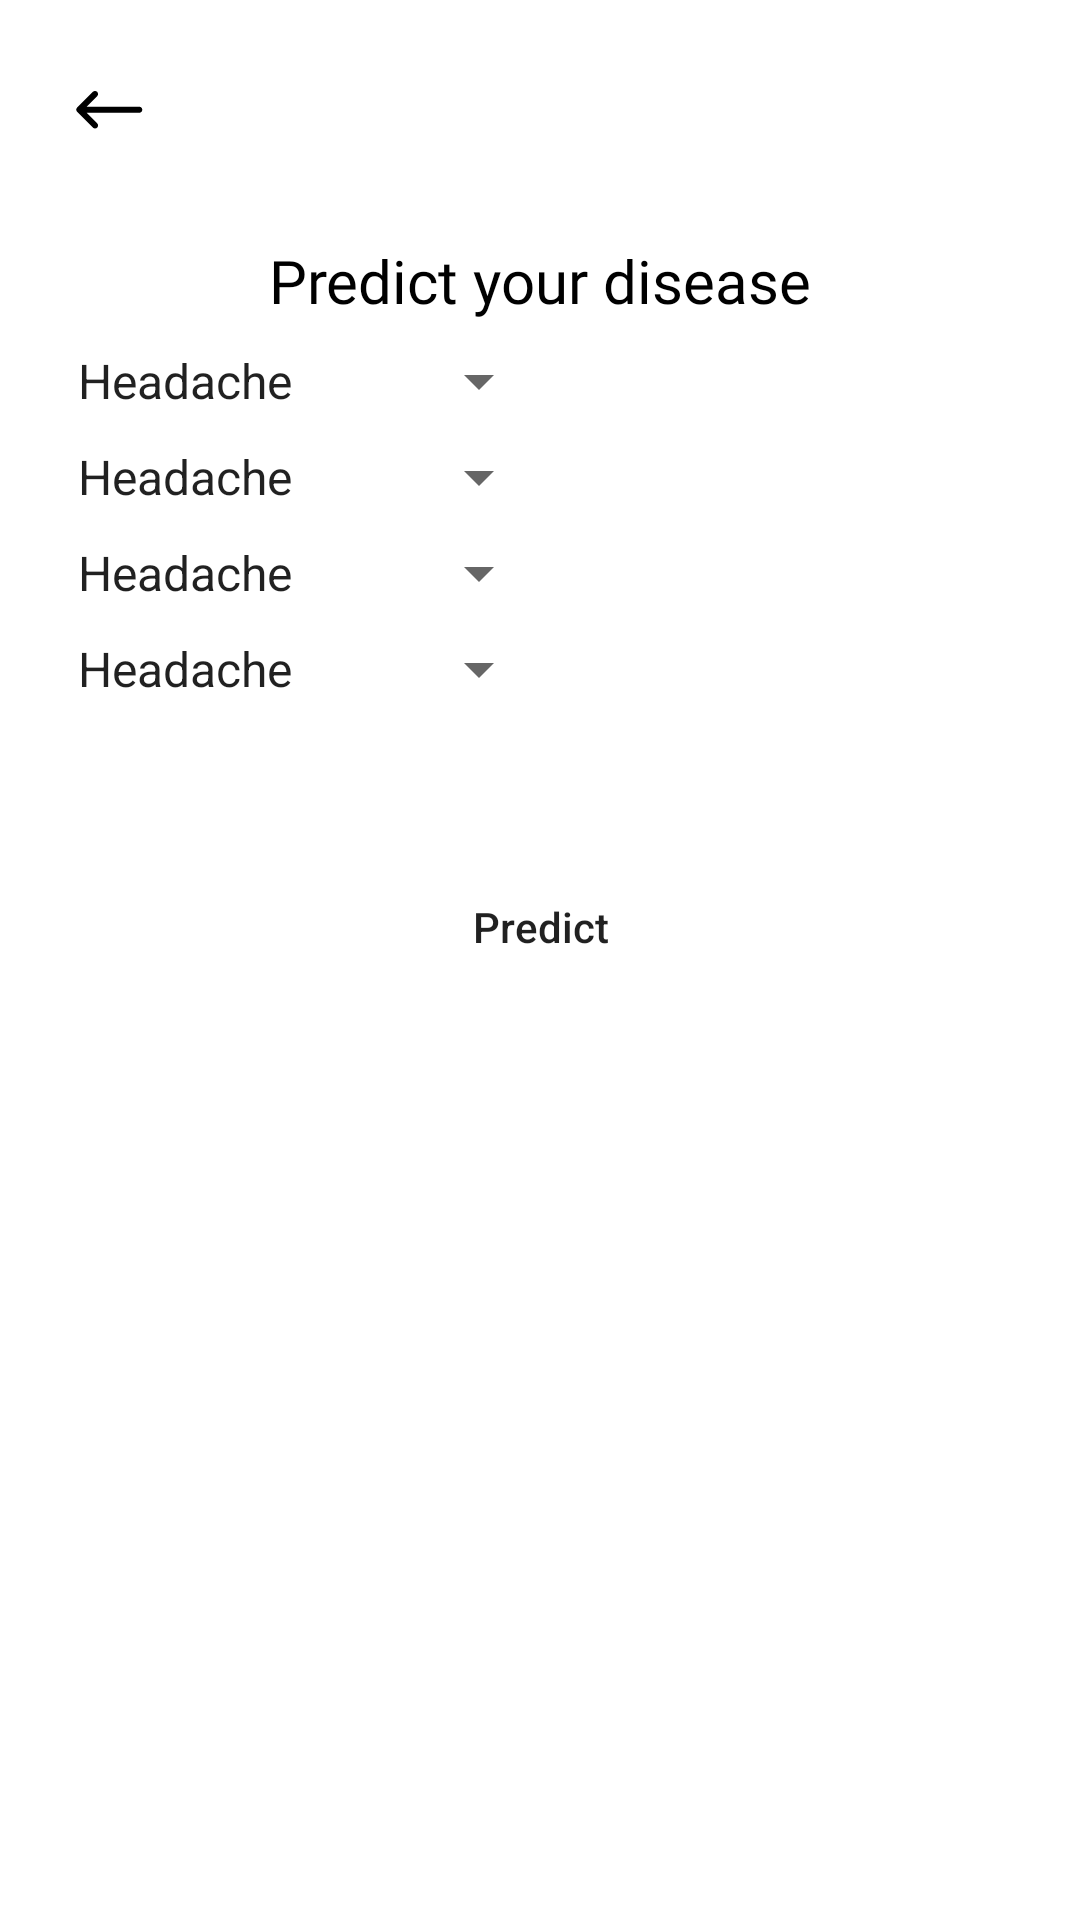

Icons on this 1080*1920 Android screen, each with the point to tap as (x=x, y=y):
back: (x=109, y=110)
